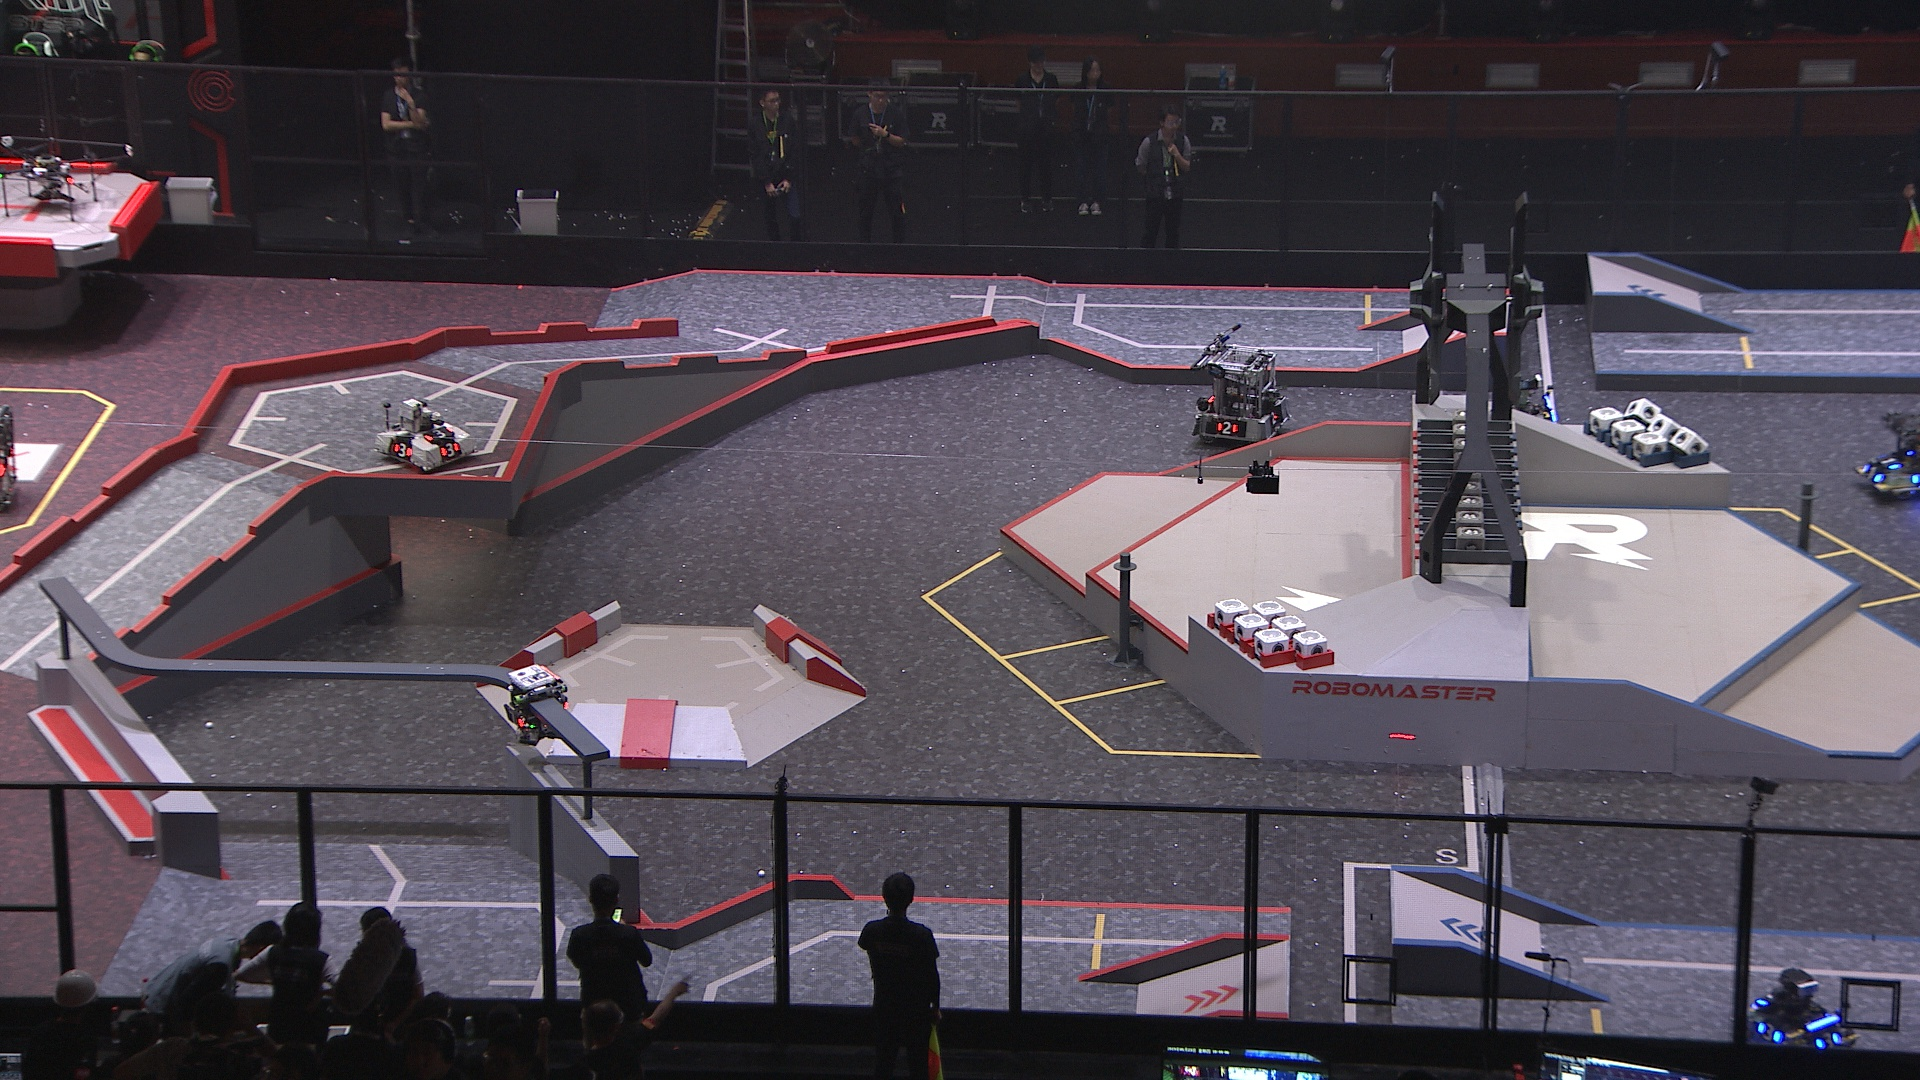armor: (1751, 1015, 1785, 1046), (500, 700, 531, 732), (1812, 1030, 1846, 1052), (1859, 460, 1884, 488), (392, 436, 417, 462), (436, 439, 462, 462), (423, 423, 452, 442), (1215, 418, 1240, 436), (1880, 452, 1902, 472), (1265, 406, 1280, 429)
car: (1738, 964, 1859, 1059), (1196, 342, 1295, 454), (373, 394, 475, 471), (1858, 404, 1920, 504), (1480, 371, 1557, 442)
watcher: (498, 661, 568, 750)
